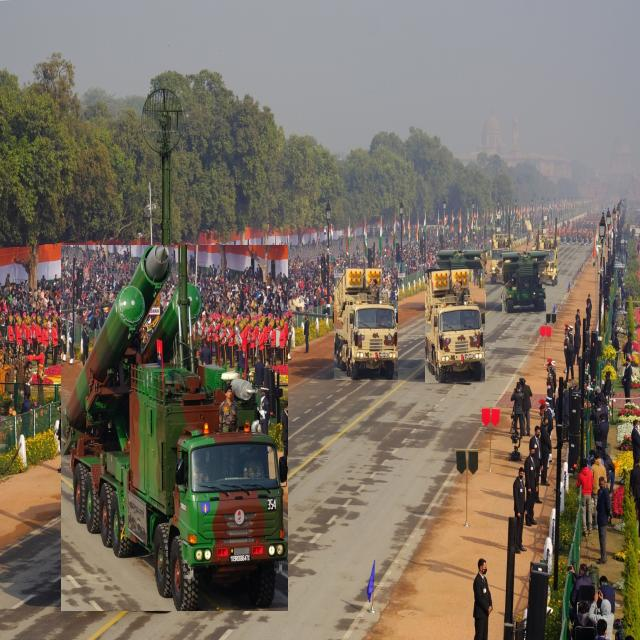truck: (61, 246, 288, 611), (334, 268, 398, 380), (425, 270, 485, 383), (502, 251, 545, 313), (490, 230, 514, 283)
